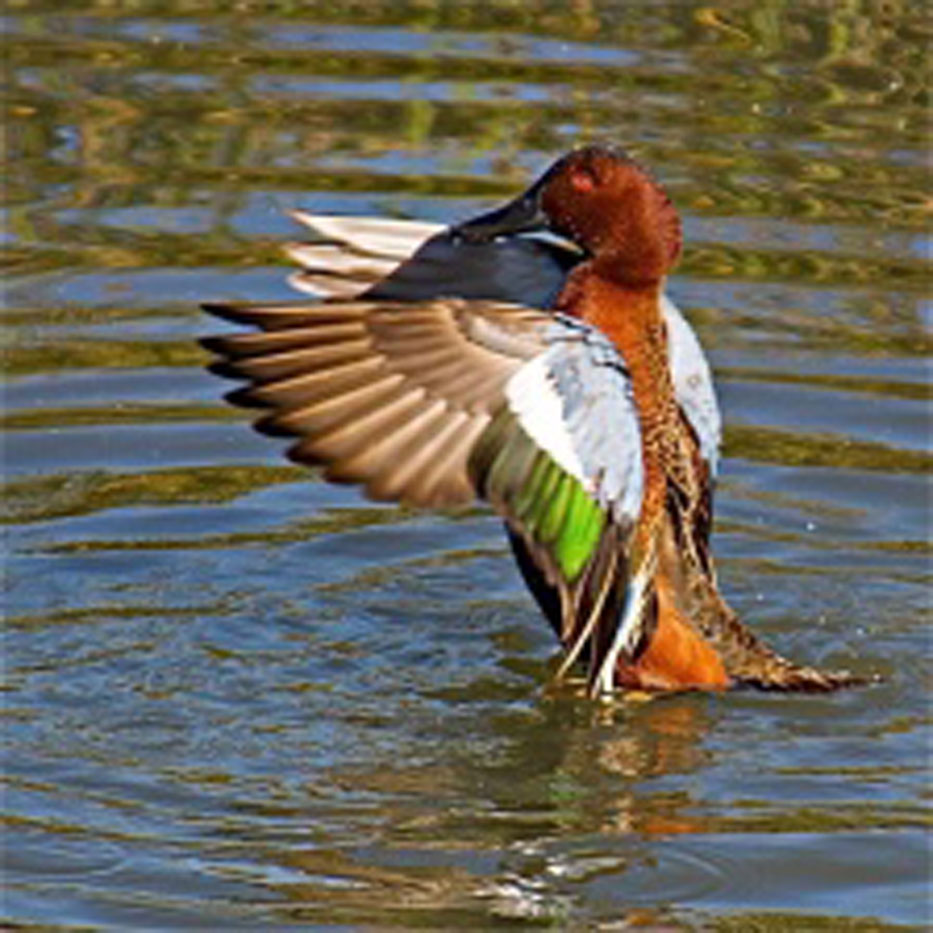Mencari Makan di Lumpur: (437, 175, 548, 251)
